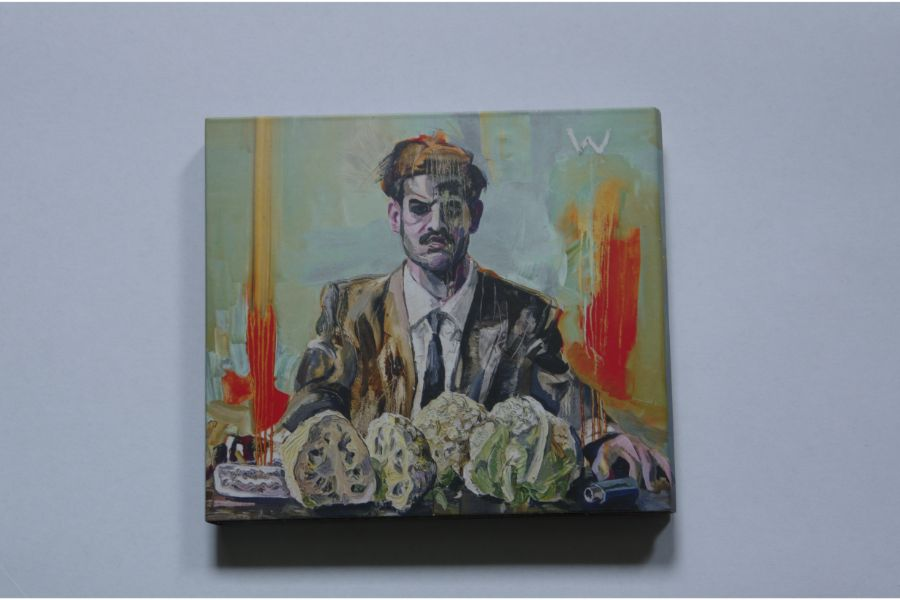album: (203, 106, 677, 525)
